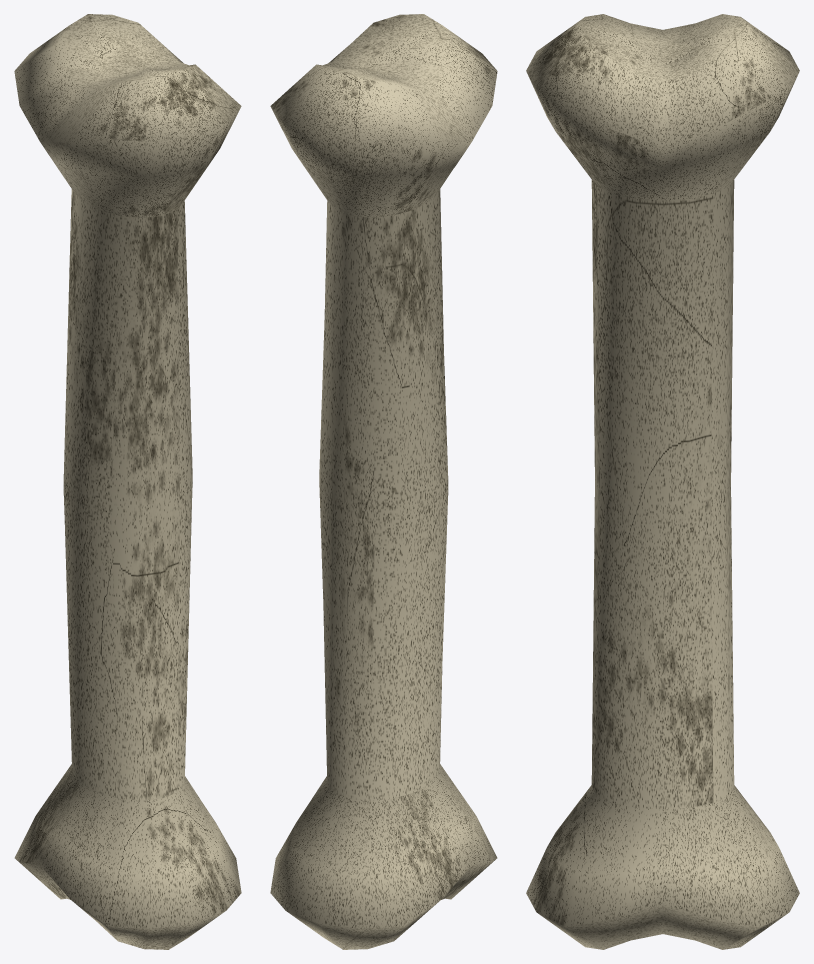
File: lowpoly_bone.fbx
3 renders of one model, left to right at view 1: azimuth 30°, elevation 25°; view 2: azimuth 150°, elevation 25°; view 3: azimuth 270°, elevation 25°, orthographic. The views are drawn at different scales.
Parts seen in each view (by area): view 1: Cylinder; view 2: Cylinder; view 3: Cylinder.
Part boxes in pixels (left/top/right/bottom): Cylinder: left=14, top=14, right=241, bottom=949; Cylinder: left=270, top=14, right=497, bottom=949; Cylinder: left=526, top=14, right=799, bottom=949.
Size of the model in its own units: 297 by 1418 by 384.
